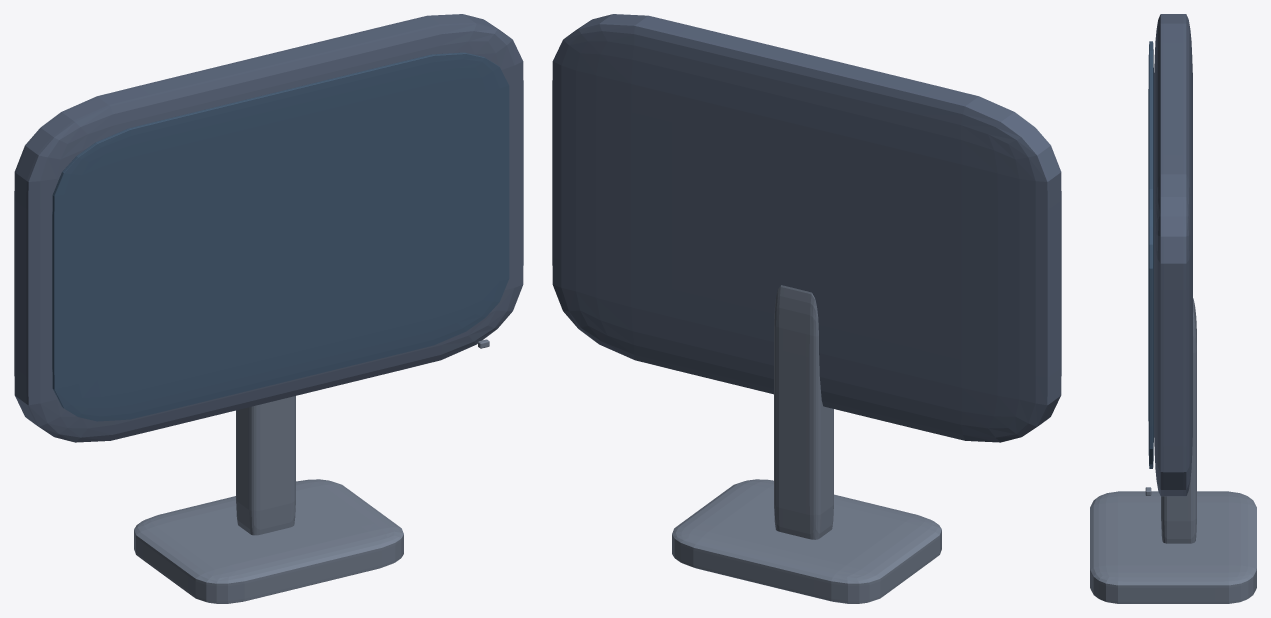
File: monitor-off.glb
3 views of the same model, side by side, from view 1: azimuth 30°, elevation 25°; view 2: azimuth 150°, elevation 25°; view 3: azimuth 270°, elevation 25° (orthographic). The views are drawn at different scales.
Visible parts, largest first — view 1: screen, housing, foot, stem; view 2: housing, foot, stem; view 3: housing, foot, stem, screen.
Part boxes in pixels (x1=…): screen: x1=52, y1=52, x2=509, y2=421; housing: x1=14, y1=14, x2=523, y2=442; foot: x1=134, y1=479, x2=403, y2=603; stem: x1=236, y1=396, x2=295, y2=535; housing: x1=552, y1=14, x2=1061, y2=442; foot: x1=672, y1=479, x2=941, y2=603; stem: x1=774, y1=285, x2=833, y2=539; housing: x1=1154, y1=14, x2=1192, y2=496; foot: x1=1090, y1=491, x2=1256, y2=603; stem: x1=1161, y1=298, x2=1196, y2=543; screen: x1=1148, y1=41, x2=1153, y2=468.
Size of the model in its own units: 0.96 by 0.9175 by 0.3.
